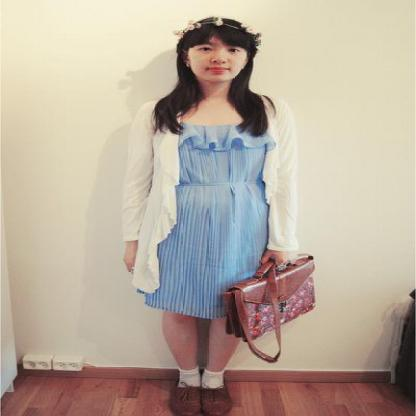bag: (220, 262, 314, 346)
dress: (137, 113, 275, 324)
jacket: (118, 99, 298, 291)
shoe: (168, 372, 234, 415)
